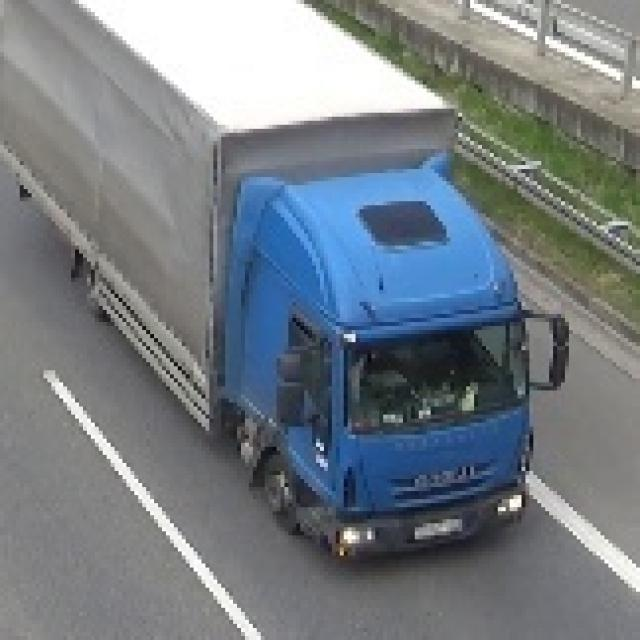truck: (0, 0, 565, 564)
